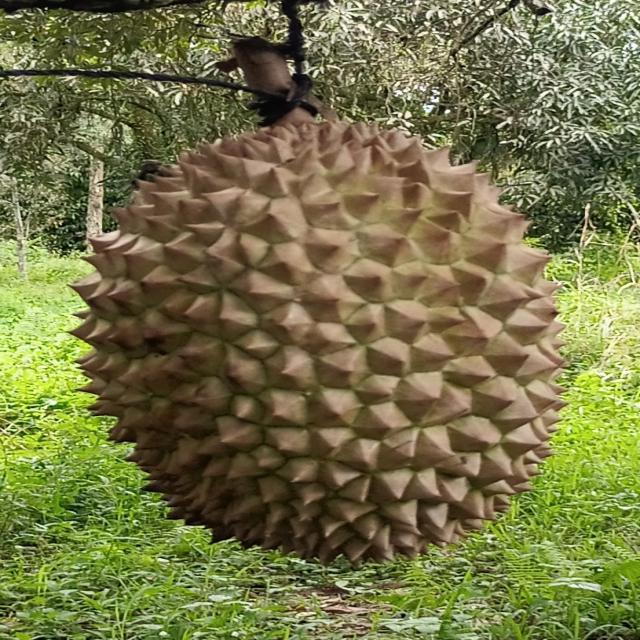RIPE: (70, 118, 569, 572)
